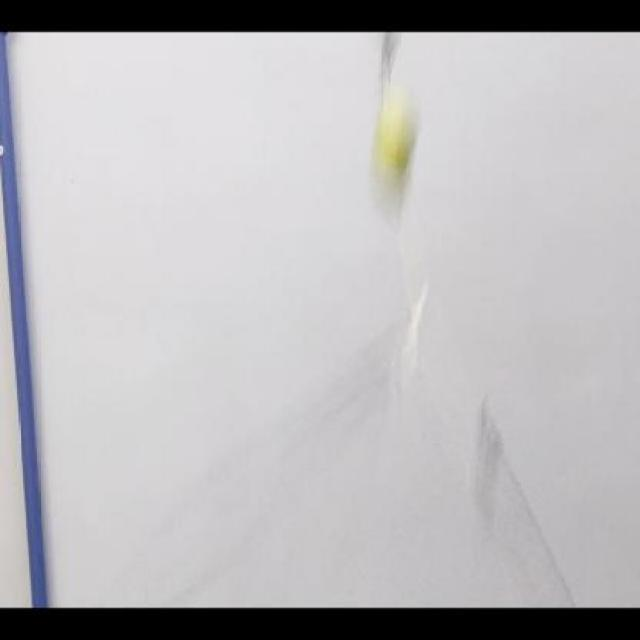baseball: (373, 81, 416, 221)
